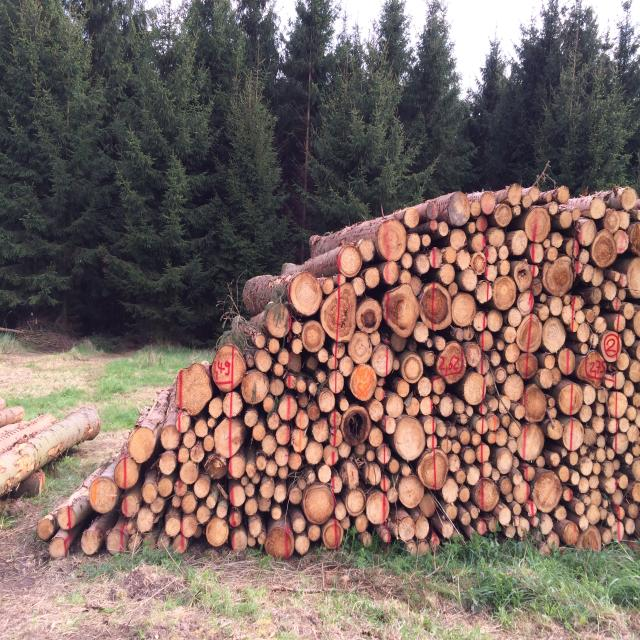wood-log: (322, 279, 362, 342), (175, 364, 214, 415), (383, 284, 420, 336), (210, 343, 247, 391), (288, 270, 322, 315), (420, 284, 452, 331), (394, 417, 427, 462), (303, 482, 337, 522), (437, 341, 469, 382), (416, 451, 448, 492), (532, 470, 562, 513), (376, 220, 406, 262), (544, 255, 574, 297), (264, 522, 296, 560), (89, 476, 120, 514), (128, 428, 158, 465), (523, 205, 553, 242), (519, 383, 548, 421), (578, 350, 608, 386), (518, 316, 547, 353), (349, 365, 376, 403), (519, 424, 545, 463), (240, 371, 268, 406), (556, 380, 584, 415), (398, 474, 426, 508), (265, 303, 291, 339), (592, 233, 618, 269), (115, 455, 142, 489), (451, 293, 477, 328), (493, 274, 518, 310), (541, 319, 566, 354), (371, 344, 396, 378), (462, 372, 487, 406), (474, 478, 500, 510), (359, 298, 382, 332), (348, 332, 372, 364), (206, 516, 231, 546), (368, 492, 390, 526), (202, 454, 228, 482), (449, 194, 471, 226), (600, 332, 622, 363), (303, 323, 325, 353), (340, 247, 362, 277), (323, 519, 345, 549), (516, 352, 540, 378), (558, 346, 578, 377), (578, 220, 600, 247), (122, 489, 144, 516), (626, 257, 640, 299), (536, 367, 560, 391), (278, 395, 300, 421), (505, 375, 525, 403), (404, 353, 424, 381), (608, 392, 628, 420), (559, 520, 579, 548), (162, 425, 182, 452), (495, 447, 515, 474), (441, 477, 461, 504), (419, 492, 439, 519), (224, 393, 245, 418), (510, 231, 530, 257), (346, 488, 366, 514), (620, 186, 640, 212), (381, 262, 402, 286), (494, 203, 514, 228), (368, 394, 386, 421), (252, 348, 272, 372), (311, 417, 330, 442), (230, 454, 248, 480), (582, 265, 604, 286), (316, 388, 336, 411), (290, 425, 307, 452), (137, 508, 155, 533), (84, 528, 102, 553), (160, 451, 179, 474), (486, 309, 505, 332), (589, 196, 608, 219), (481, 191, 500, 214), (306, 442, 324, 466), (386, 392, 404, 416), (36, 517, 54, 540), (180, 460, 198, 482), (404, 208, 422, 230), (487, 228, 506, 248), (602, 281, 620, 302), (196, 477, 213, 499), (617, 228, 632, 252), (181, 516, 198, 537), (330, 372, 346, 394), (548, 417, 563, 440), (359, 236, 372, 261), (295, 534, 311, 554), (614, 436, 630, 456), (264, 437, 280, 457), (364, 267, 379, 288), (271, 377, 286, 398), (160, 477, 175, 498), (168, 515, 182, 537), (560, 210, 576, 229), (244, 408, 260, 427), (395, 380, 411, 399), (529, 243, 544, 263), (409, 233, 423, 254), (418, 377, 432, 398), (631, 223, 640, 255), (550, 234, 566, 252), (252, 424, 268, 442), (245, 497, 258, 516), (230, 507, 242, 527), (264, 395, 277, 413), (401, 252, 414, 268), (309, 524, 322, 540), (631, 360, 640, 383), (632, 455, 640, 480), (416, 368, 427, 386), (632, 482, 640, 505), (634, 308, 640, 338)
